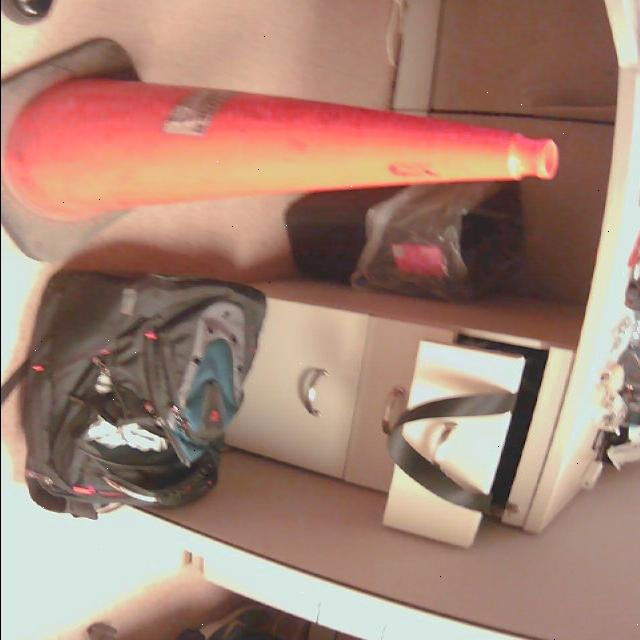traffic cone: (1, 42, 558, 263)
